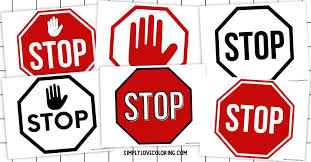stop sign: (215, 78, 294, 161), (18, 75, 96, 155), (115, 68, 192, 145), (215, 6, 294, 81), (17, 8, 97, 76)
